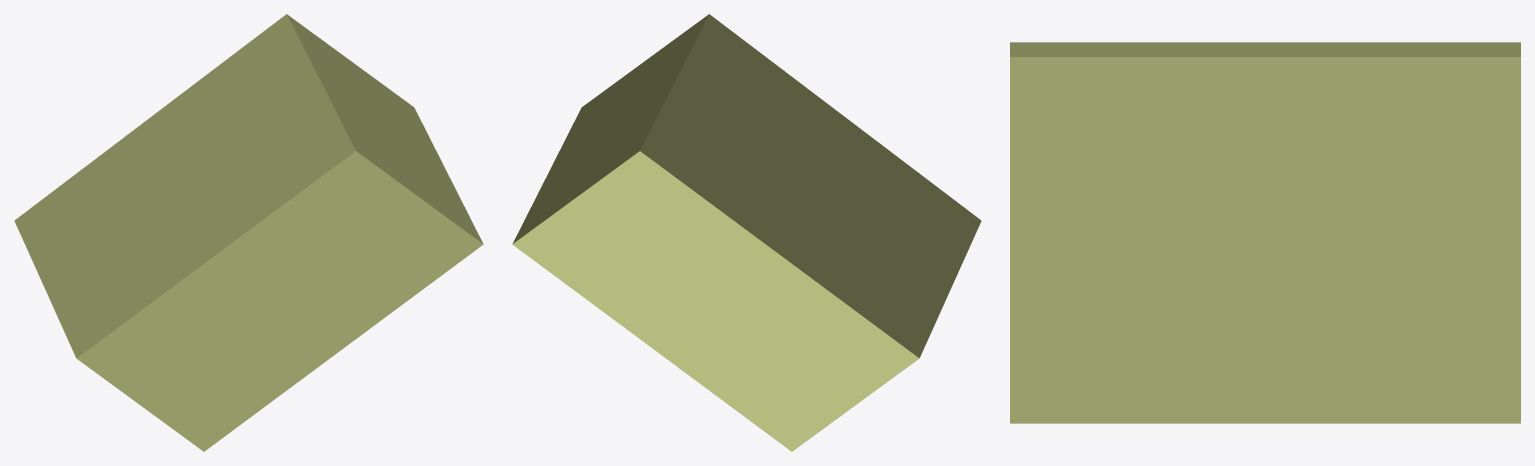
3 views of the same model, side by side, from view 1: azimuth 30°, elevation 25°; view 2: azimuth 150°, elevation 25°; view 3: azimuth 270°, elevation 25° (orthographic). The views are drawn at different scales.
Visible parts, largest first — view 1: 0_1_1_3_2_2_0_1_3_0_0; view 2: 0_1_1_3_2_2_0_1_3_0_0; view 3: 0_1_1_3_2_2_0_1_3_0_0.
Boxes of the visible parts, x1=… form: 0_1_1_3_2_2_0_1_3_0_0: x1=14, y1=14, x2=483, y2=451; 0_1_1_3_2_2_0_1_3_0_0: x1=512, y1=14, x2=981, y2=451; 0_1_1_3_2_2_0_1_3_0_0: x1=1010, y1=42, x2=1520, y2=423.
Size of the model in its own units: 9.27 by 7.6 by 6.
